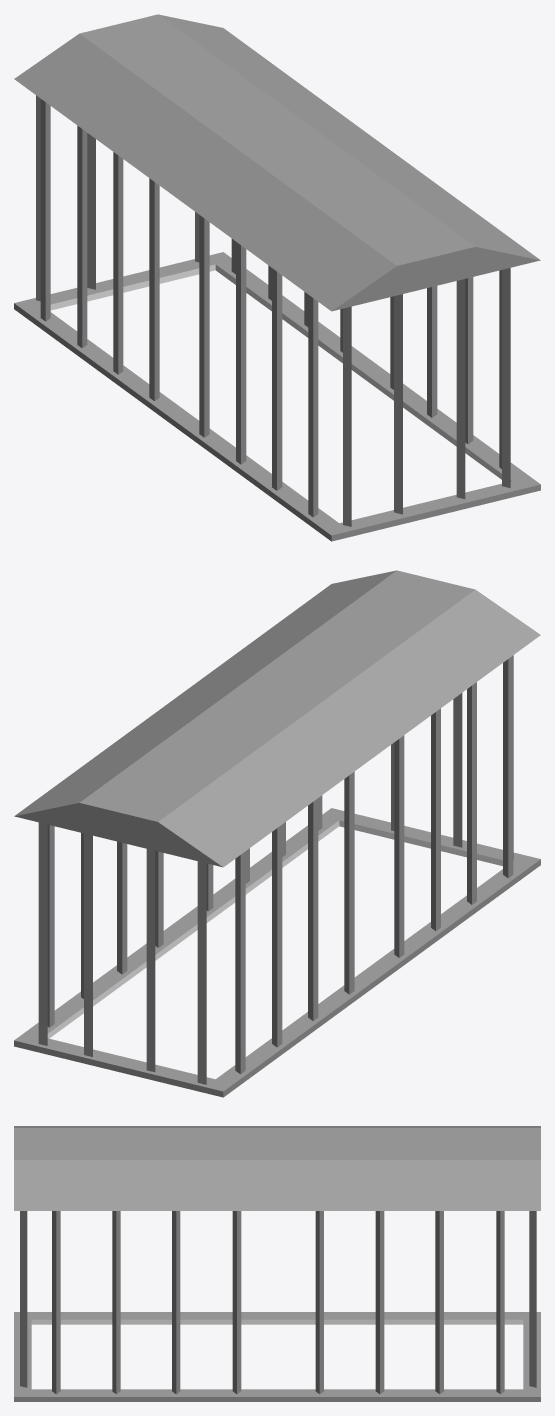
File: AnimalCageA_Top.fbx
3 renders of one model, top to bottom at view 1: azimuth 30°, elevation 25°; view 2: azimuth 150°, elevation 25°; view 3: azimuth 270°, elevation 25°, orthographic. The views are drawn at different scales.
Parts seen in each view (by area): view 1: AnimalCageA_Top, AninmalCage_RightFrontbars, AnimalCage_RightBackbars, AnimalCage_Frontbars, AnimalCage_Frontleftbars, AnimalCage_Backbars, AnimalCage_BackleftBars; view 2: AnimalCageA_Top, AnimalCage_RightBackbars, AninmalCage_RightFrontbars, AnimalCage_Backbars, AnimalCage_BackleftBars, AnimalCage_Frontbars, AnimalCage_Frontleftbars; view 3: AnimalCageA_Top, AnimalCage_BackleftBars, AnimalCage_Frontleftbars, AnimalCage_RightBackbars, AninmalCage_RightFrontbars, AnimalCage_Frontbars, AnimalCage_Backbars.
Boxes of the visible parts, x1,y1,x2,y2 form: AnimalCageA_Top: [14, 14, 540, 311]; AninmalCage_RightFrontbars: [172, 215, 349, 541]; AnimalCage_RightBackbars: [14, 99, 190, 424]; AnimalCage_Frontbars: [340, 268, 522, 536]; AnimalCage_Frontleftbars: [363, 270, 540, 494]; AnimalCage_Backbars: [33, 95, 215, 310]; AnimalCage_BackleftBars: [209, 238, 381, 378]; AnimalCageA_Top: [14, 570, 540, 867]; AnimalCage_RightBackbars: [205, 771, 382, 1097]; AninmalCage_RightFrontbars: [364, 655, 540, 980]; AnimalCage_Backbars: [32, 822, 214, 1092]; AnimalCage_BackleftBars: [14, 824, 191, 1050]; AnimalCage_Frontbars: [339, 655, 521, 865]; AnimalCage_Frontleftbars: [173, 795, 344, 934]; AnimalCageA_Top: [14, 1126, 540, 1210]; AnimalCage_BackleftBars: [277, 1211, 540, 1401]; AnimalCage_Frontleftbars: [14, 1211, 277, 1401]; AnimalCage_RightBackbars: [277, 1312, 540, 1324]; AninmalCage_RightFrontbars: [14, 1312, 277, 1324]; AnimalCage_Frontbars: [14, 1211, 31, 1389]; AnimalCage_Backbars: [523, 1211, 540, 1389].
Size of the model in its own units: 65.53 by 77.63 by 172.
1 material, 1 textured.
